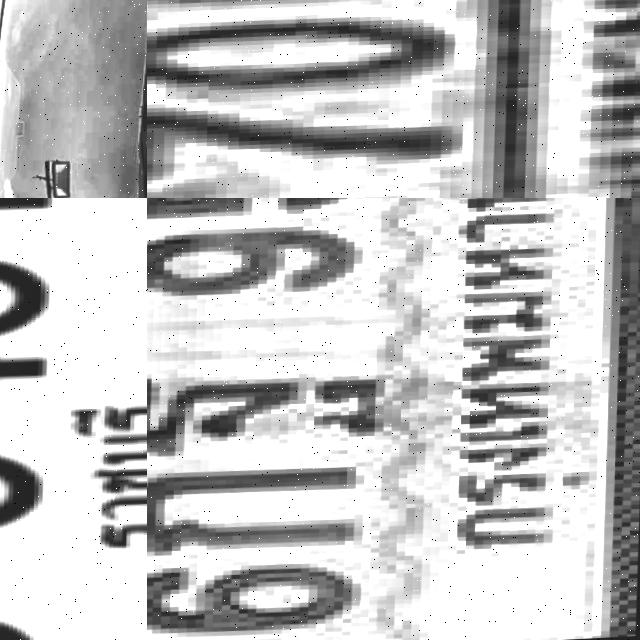license-plate: (147, 198, 640, 640), (147, 0, 640, 198), (0, 198, 147, 640)
